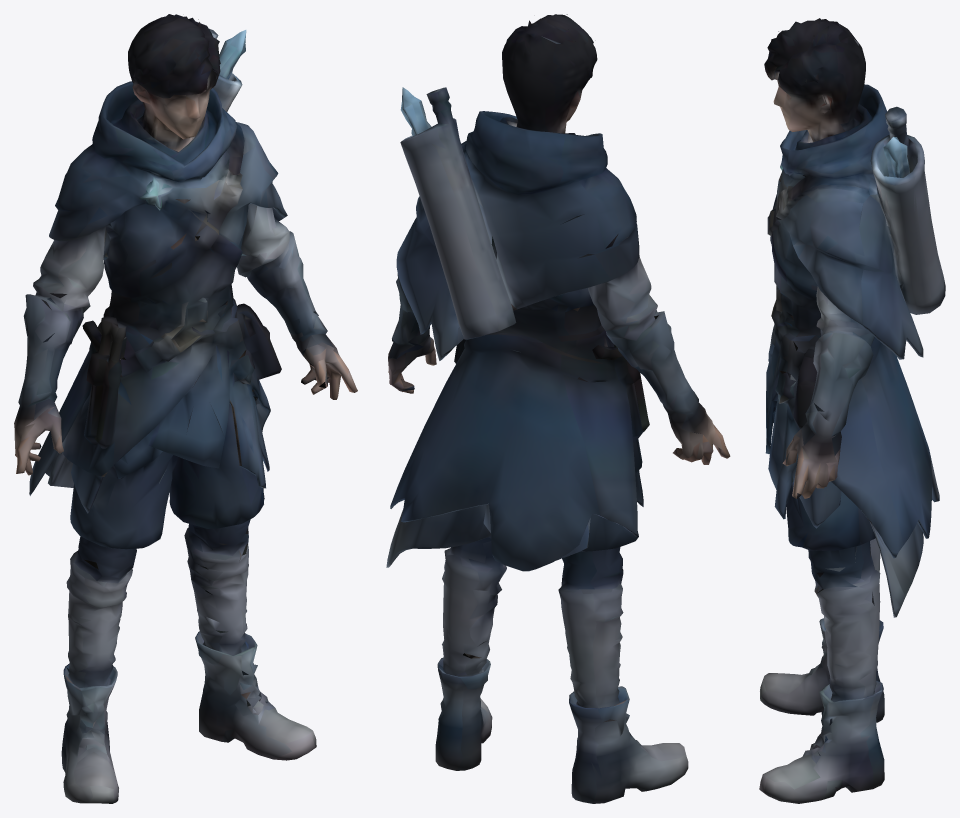
File: outfit_hunter_t1_m.glb
3 views of the same model, side by side, from view 1: azimuth 30°, elevation 25°; view 2: azimuth 150°, elevation 25°; view 3: azimuth 270°, elevation 25° (orthographic). The views are drawn at different scales.
Parts seen in each view (by area): view 1: outfit_hunter_t1_m; view 2: outfit_hunter_t1_m; view 3: outfit_hunter_t1_m.
Boxes of the visible parts, <box> form: outfit_hunter_t1_m: <box>14,14,357,803</box>; outfit_hunter_t1_m: <box>386,14,730,803</box>; outfit_hunter_t1_m: <box>759,18,945,803</box>.
Bounding box in the file's own units: 0.8862 × 1.85 × 0.4288.
Materials: 1 (1 with a texture image).
